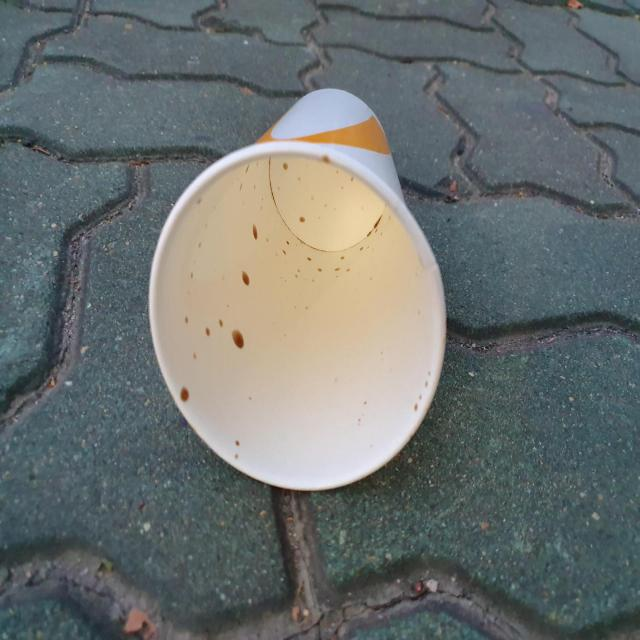paperpack: (149, 88, 446, 490)
